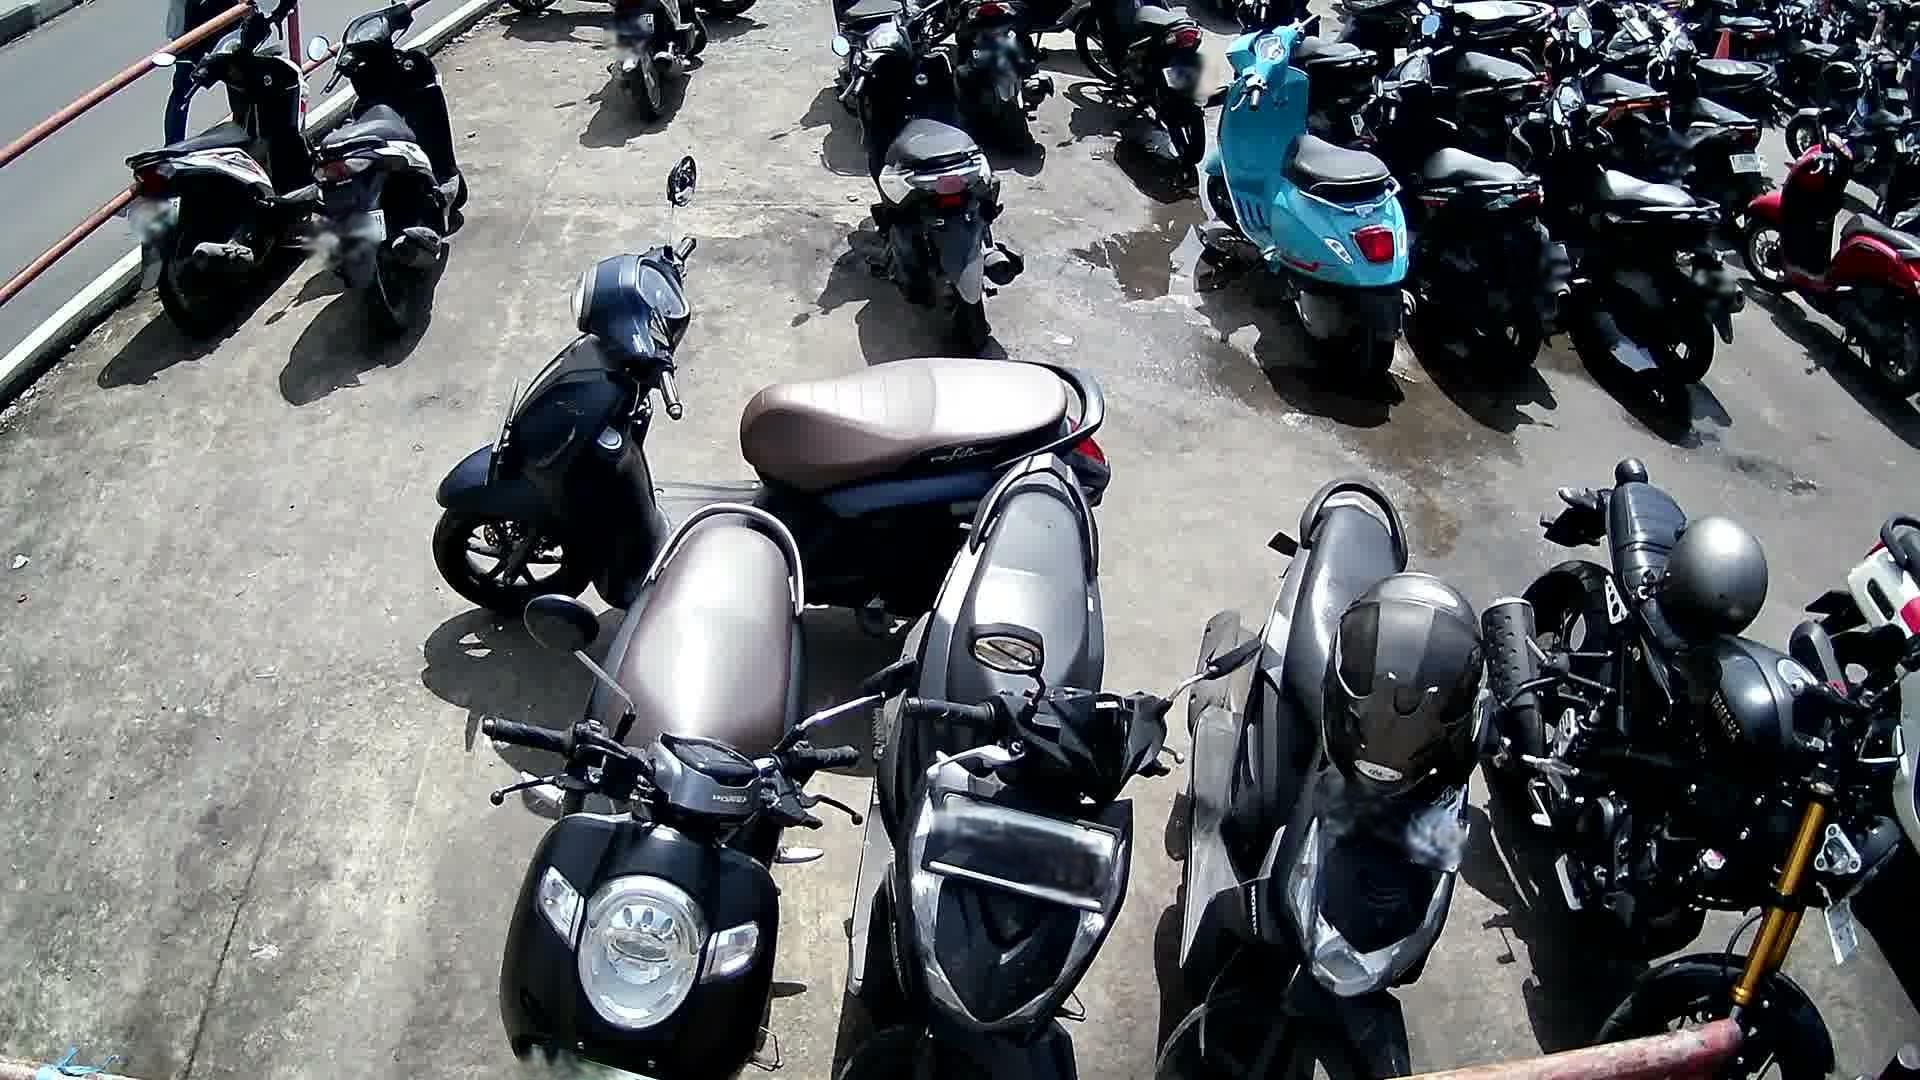motorcycle: (431, 154, 1112, 615), (1480, 454, 1903, 1080), (845, 454, 1258, 1080), (487, 505, 864, 1080), (1160, 476, 1509, 1080), (1199, 13, 1418, 394), (1501, 61, 1746, 396), (1350, 12, 1572, 373), (825, 0, 1029, 349), (124, 9, 322, 339), (307, 0, 469, 342), (1738, 125, 1920, 400), (1789, 510, 1920, 860)
